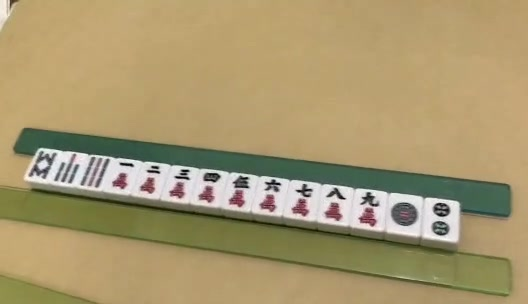1m: (112, 161, 134, 188)
1p: (392, 201, 418, 227)
2m: (140, 162, 163, 195)
2p: (431, 202, 451, 235)
3m: (170, 164, 191, 199)
4m: (200, 172, 221, 202)
5m: (230, 171, 251, 208)
6m: (259, 177, 282, 212)
7m: (293, 181, 312, 215)
7s: (59, 152, 77, 183)
8m: (325, 187, 345, 223)
8s: (27, 149, 53, 177)
9m: (358, 192, 379, 227)
9s: (83, 156, 109, 186)
